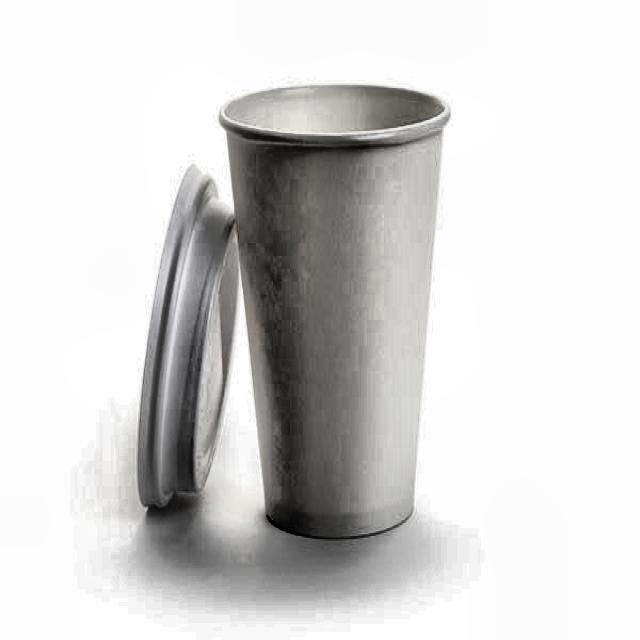Cup: (216, 71, 459, 554)
